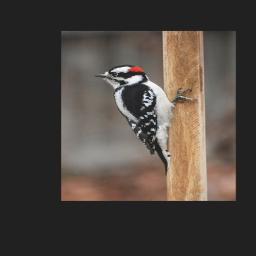Woodpecker: (94, 65, 197, 175)
